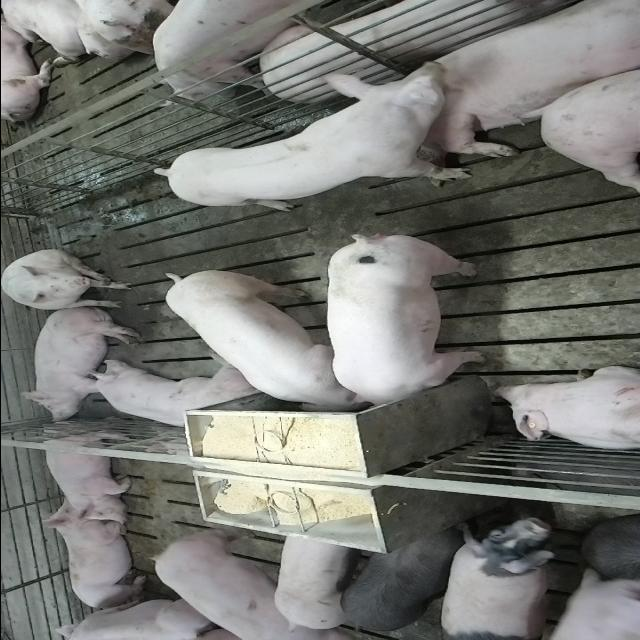Feeding: (160, 264, 368, 412), (323, 228, 484, 408)
Lateral_lying: (15, 306, 142, 424)
Sitting: (1, 250, 134, 312)
Standing: (158, 60, 486, 212), (148, 526, 322, 638), (155, 0, 351, 98), (337, 524, 473, 636), (438, 514, 560, 636), (272, 532, 352, 632), (530, 565, 638, 637)
Sternal_lying: (366, 0, 634, 151), (72, 362, 259, 433), (489, 365, 640, 452), (38, 508, 148, 612), (36, 423, 138, 523)
